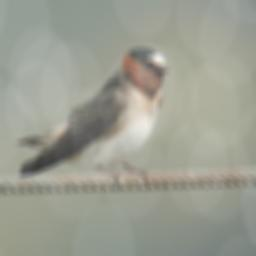Swallow: (13, 41, 175, 185)
